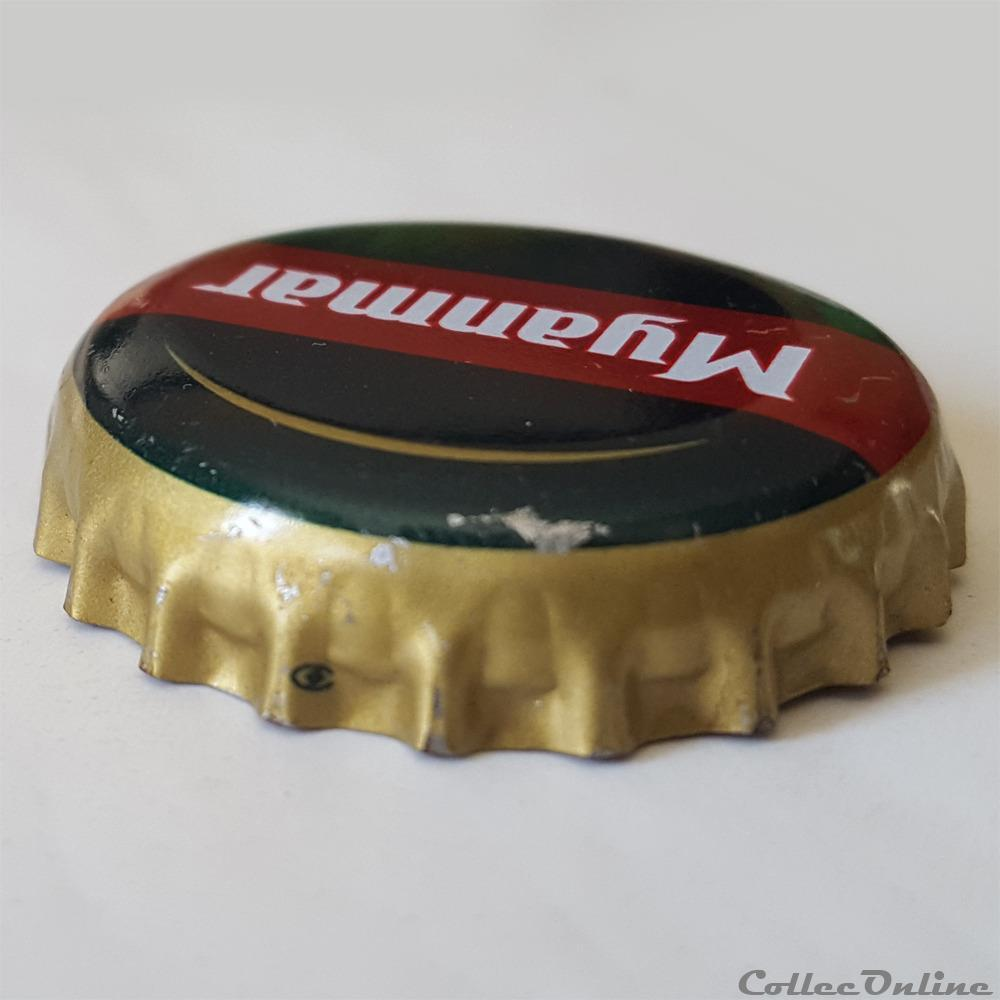metal: (34, 222, 968, 758)
